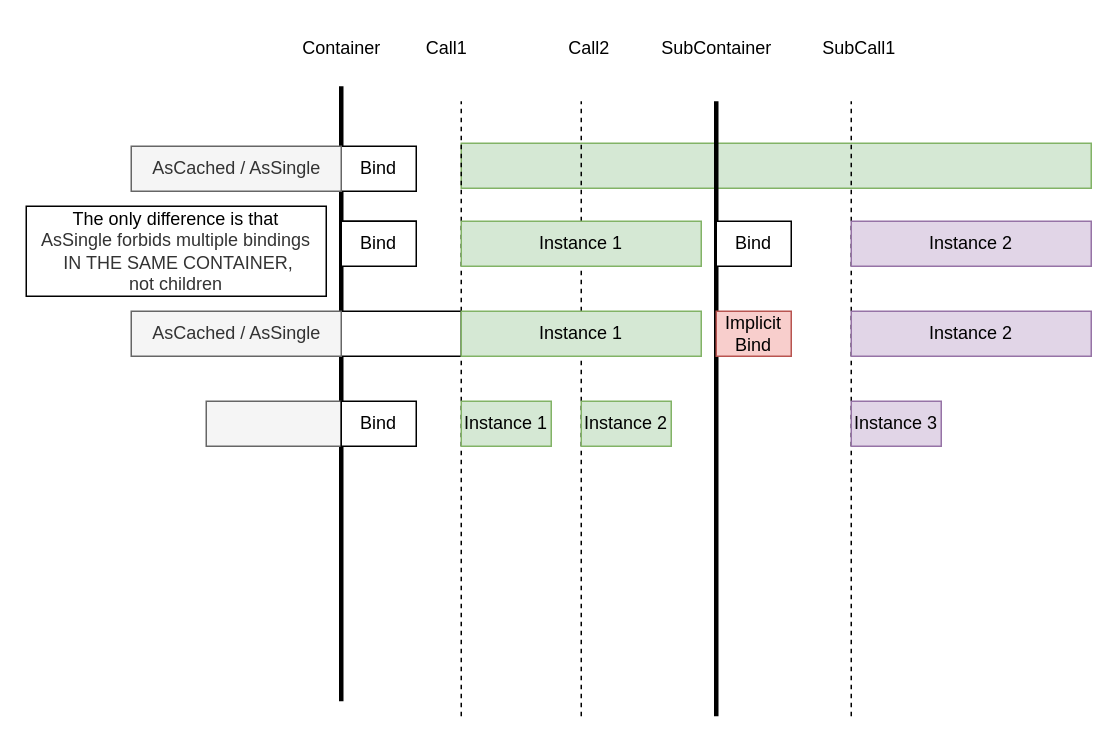
The diagram is 1118 pixels wide and 746 high, and some of its shapes have lost their labels. The shapes that lost their labels are listed below. From the top down, each one's centre as x and y in pixels, then its label:
At point 775,165: "Instance".
At point 400,333: "Bind.CopyAll".
At point 273,423: "AsTransient".
